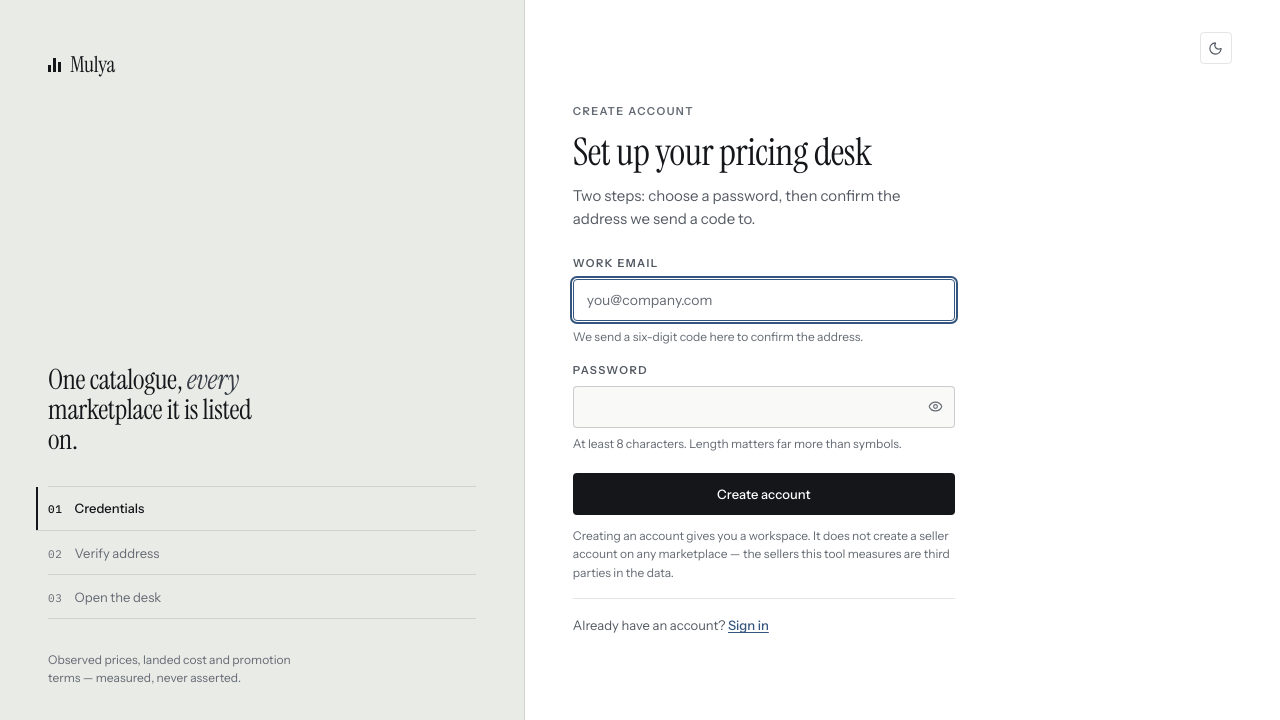
Test case: UI-AUTH — creating an account › a failed email delivery keeps the reader here, rather than sending them to wait for a code
Type "operator@example.com" into the field labelled "Work email".
click(764, 300); type("operator@example.com")  # box [573,279,955,321]
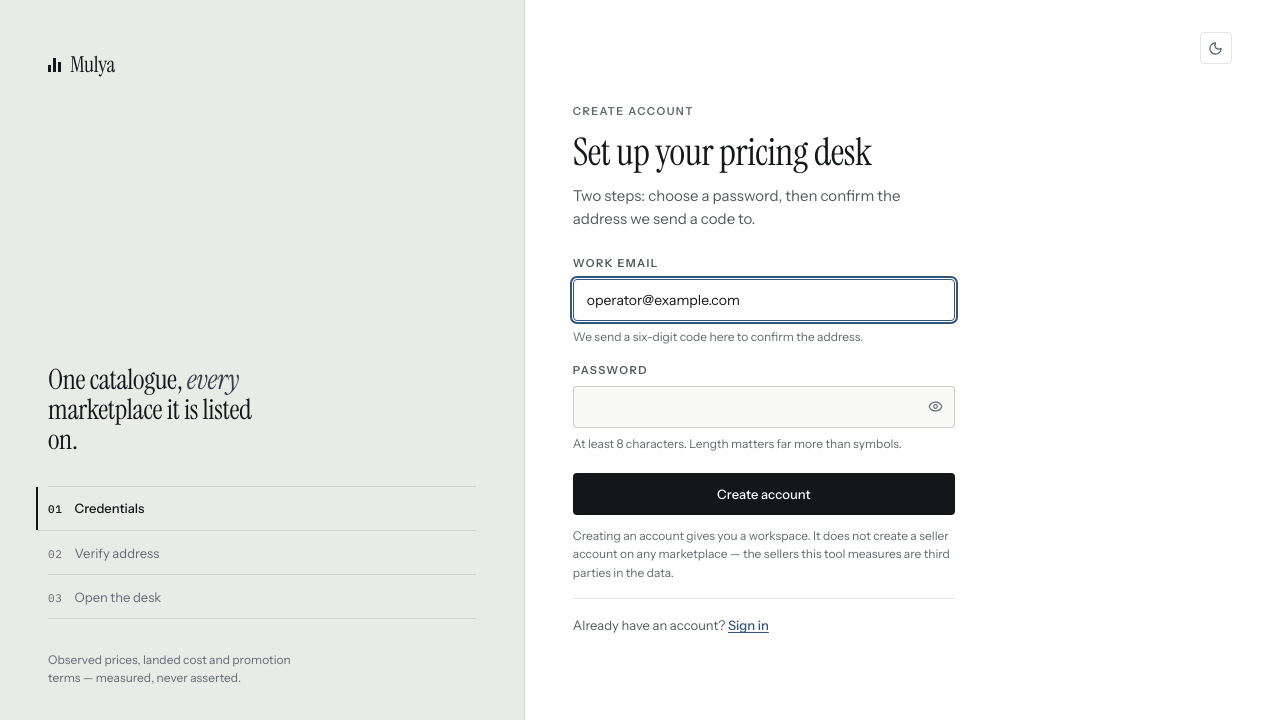
Type "correct-horse-battery" into the password field labelled "Password".
click(764, 407); type("correct-horse-battery")  # box [573,386,955,428]
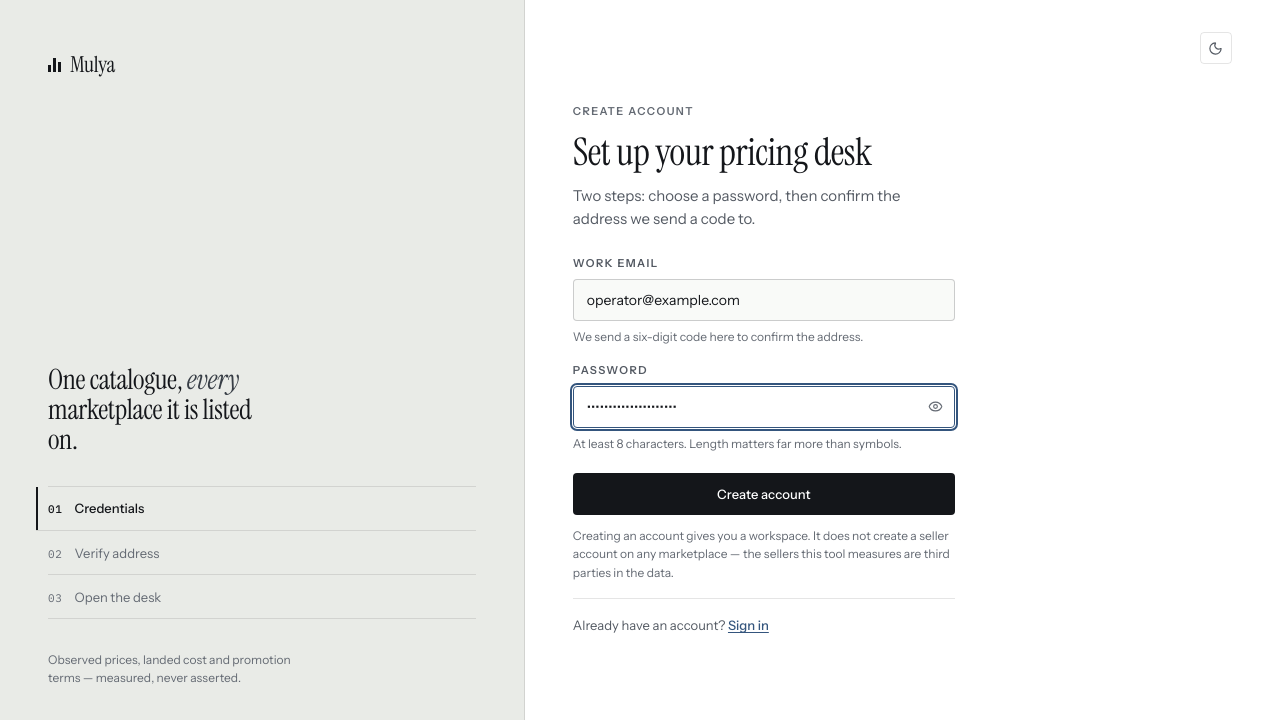
Click the button "Create account".
click(764, 494)  # box [573,473,955,515]
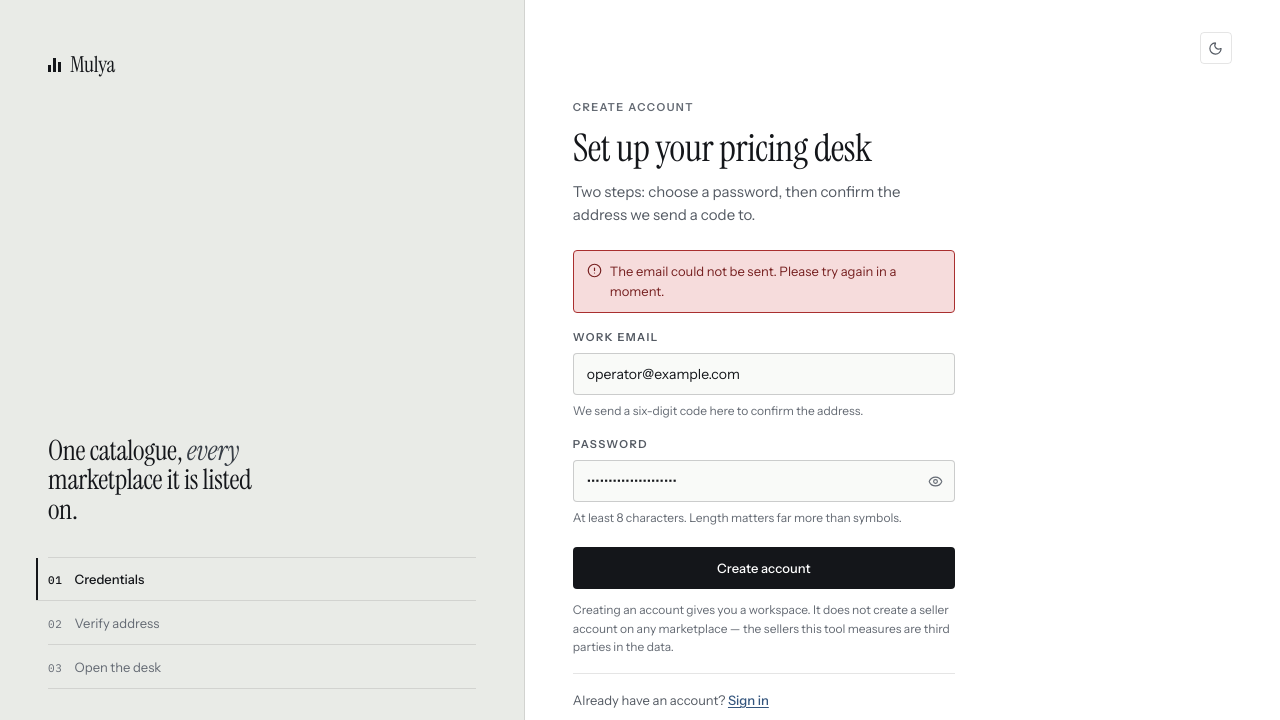
Expected: the heading "Set up your pricing desk" is shown, [573,122,872,172]
Now the message shows "could not be sent", box [610,263,896,299]
